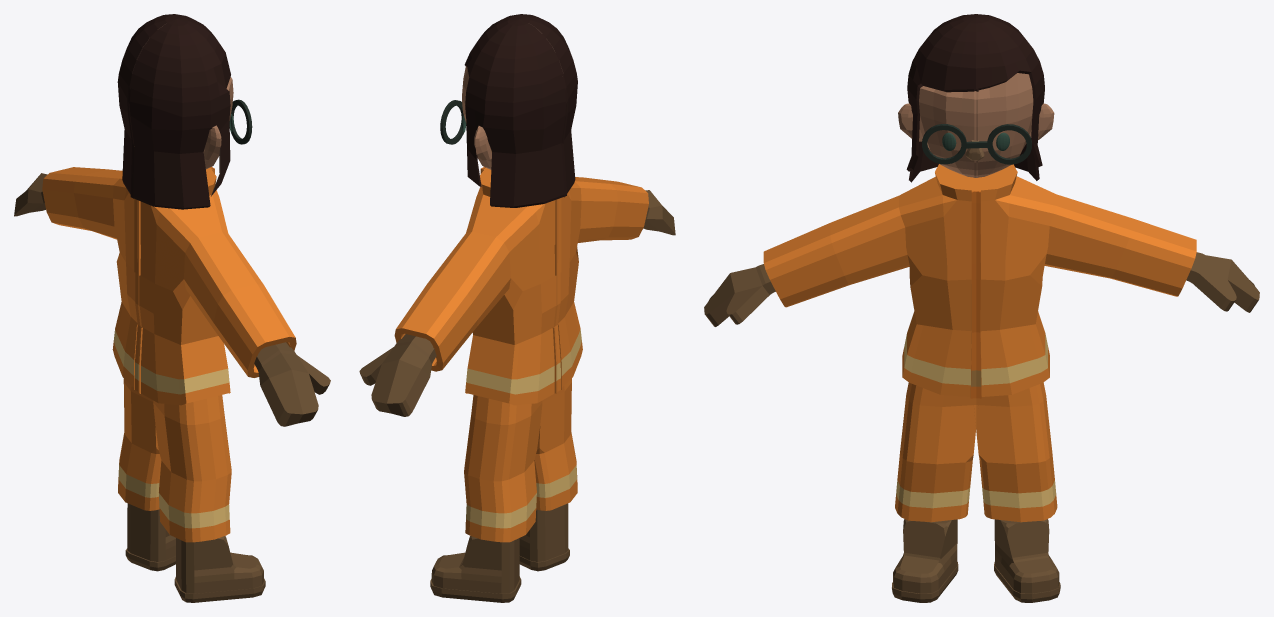
The model's file is agentesMulher.fbx.
3 renders of one model, left to right at view 1: azimuth 30°, elevation 25°; view 2: azimuth 150°, elevation 25°; view 3: azimuth 270°, elevation 25°, orthographic.
Parts seen in each view (by area): view 1: cabeca.001, pernas.001, pes.001, maos.001; view 2: cabeca.001, pernas.001, pes.001, maos.001; view 3: cabeca.001, pernas.001, pes.001, maos.001.
Boxes of the visible parts, <box> form: cabeca.001: <box>42,14,296,405</box>; pernas.001: <box>118,379,231,542</box>; pes.001: <box>125,503,265,602</box>; maos.001: <box>14,173,330,426</box>; cabeca.001: <box>394,14,648,405</box>; pernas.001: <box>464,378,577,542</box>; pes.001: <box>430,503,569,602</box>; maos.001: <box>359,190,675,416</box>; cabeca.001: <box>763,14,1196,398</box>; pernas.001: <box>895,382,1057,522</box>; pes.001: <box>892,519,1060,602</box>; maos.001: <box>704,252,1259,326</box>.
Size of the model in its own units: 26.28 by 134 by 120.
